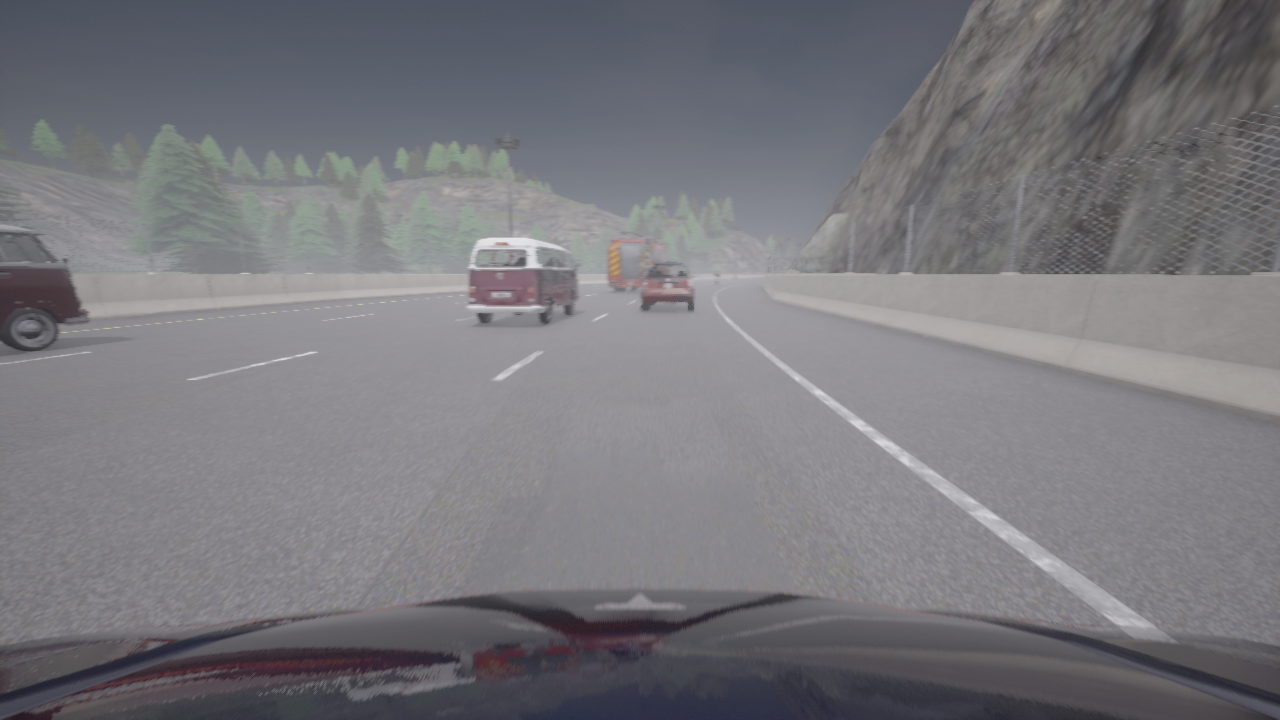cyclist: (0, 588, 1279, 719), (466, 237, 579, 324), (608, 230, 672, 291), (641, 261, 696, 311), (714, 275, 719, 285)
